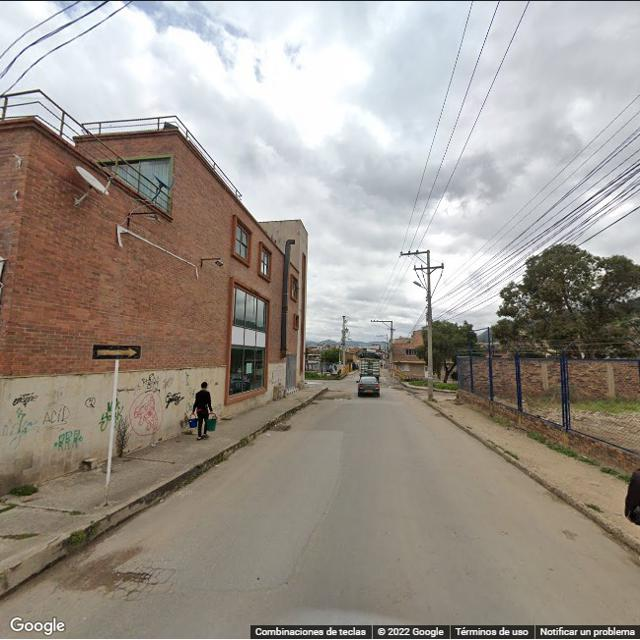D00: (285, 516, 320, 585)
D10: (171, 581, 280, 592)
D20: (101, 564, 159, 593)
